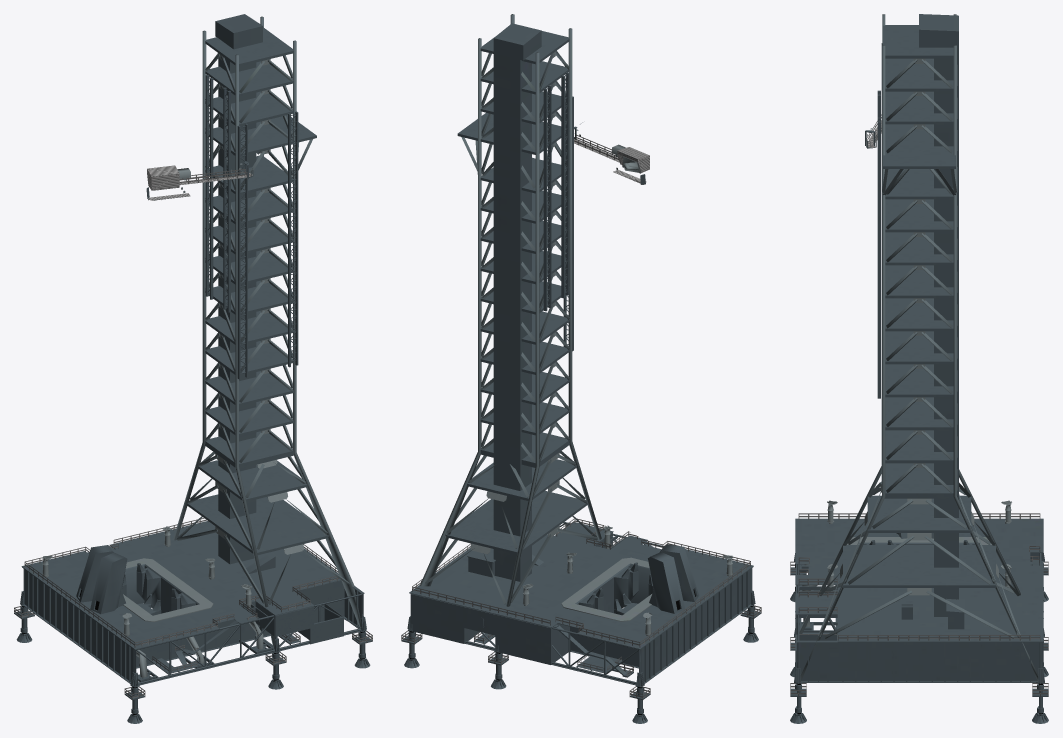
Rendered from launcher.glb.
3 views of the same model, side by side, from view 1: azimuth 30°, elevation 25°; view 2: azimuth 150°, elevation 25°; view 3: azimuth 270°, elevation 25° (orthographic). The views are drawn at different scales.
Visible parts, largest first — view 1: ML_HP; view 2: ML_HP; view 3: ML_HP.
Part boxes in pixels (x1,y1,x2,y2): ML_HP: (14, 14, 372, 723); ML_HP: (401, 14, 761, 723); ML_HP: (790, 14, 1048, 723).
Bounding box in the file's own units: 1.02 × 2.46 × 0.8671.
Materials: 2 (2 with a texture image).
